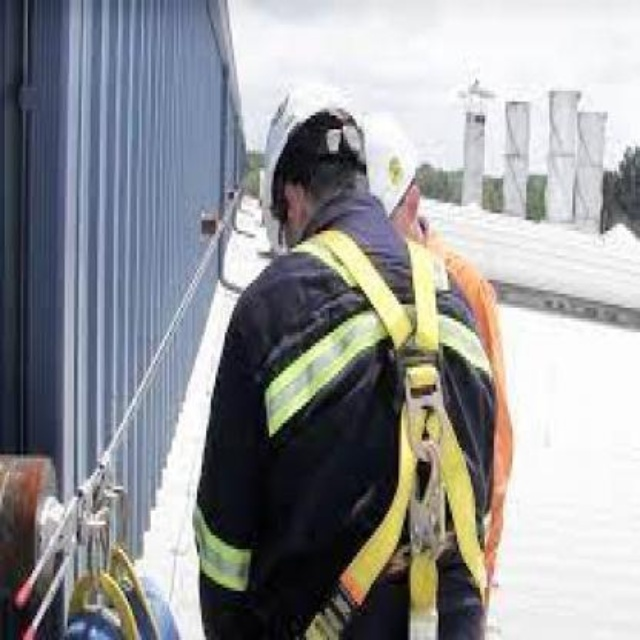Arnes_seguridad: (264, 226, 493, 640)
